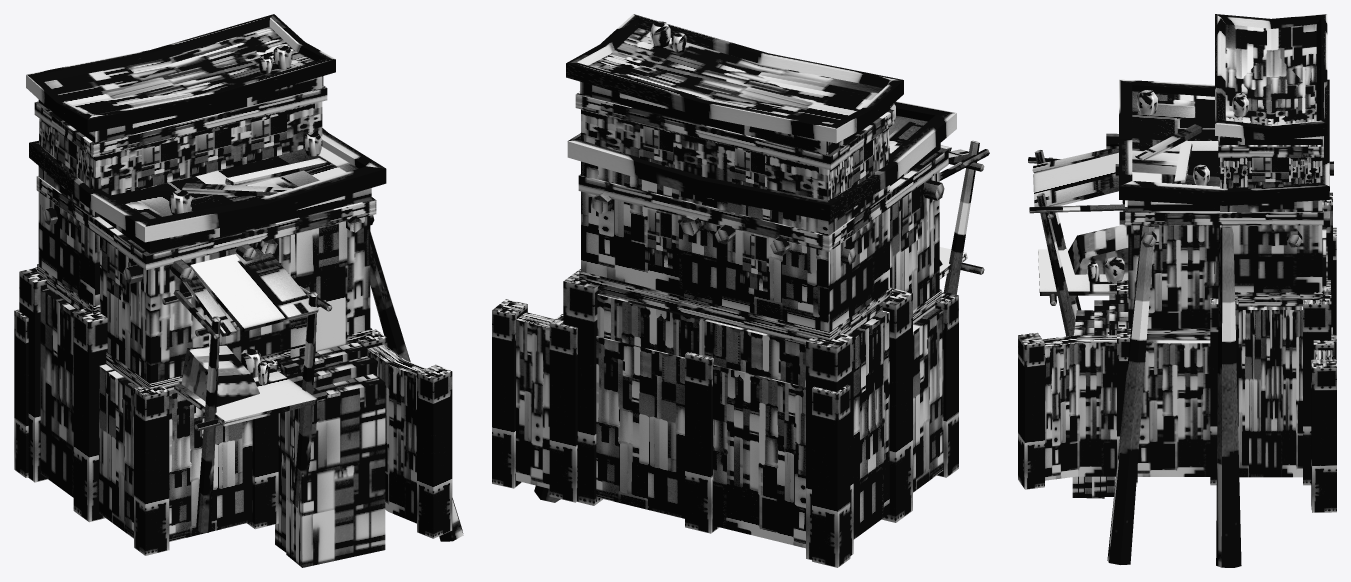
File: house_d.dae
3 renders of one model, left to right at view 1: azimuth 30°, elevation 25°; view 2: azimuth 150°, elevation 25°; view 3: azimuth 270°, elevation 25°, orthographic. The views are drawn at different scales.
Parts seen in each view (by area): view 1: Cube_004; view 2: Cube_004; view 3: Cube_004.
Part boxes in pixels (x1,y1,x2,y2): Cube_004: [14, 14, 463, 567]; Cube_004: [492, 14, 989, 567]; Cube_004: [1018, 14, 1336, 567].
Bounding box in the file's own units: 13.68 × 12.43 × 18.18.
